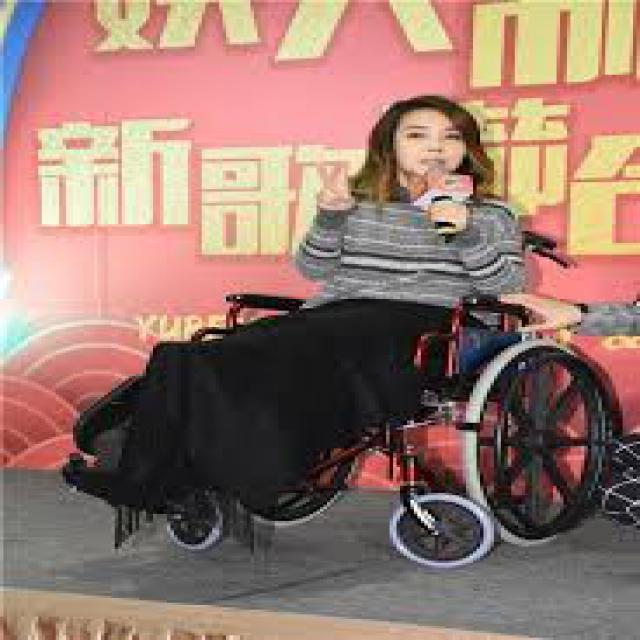wheelchairs: (198, 196, 637, 570)
